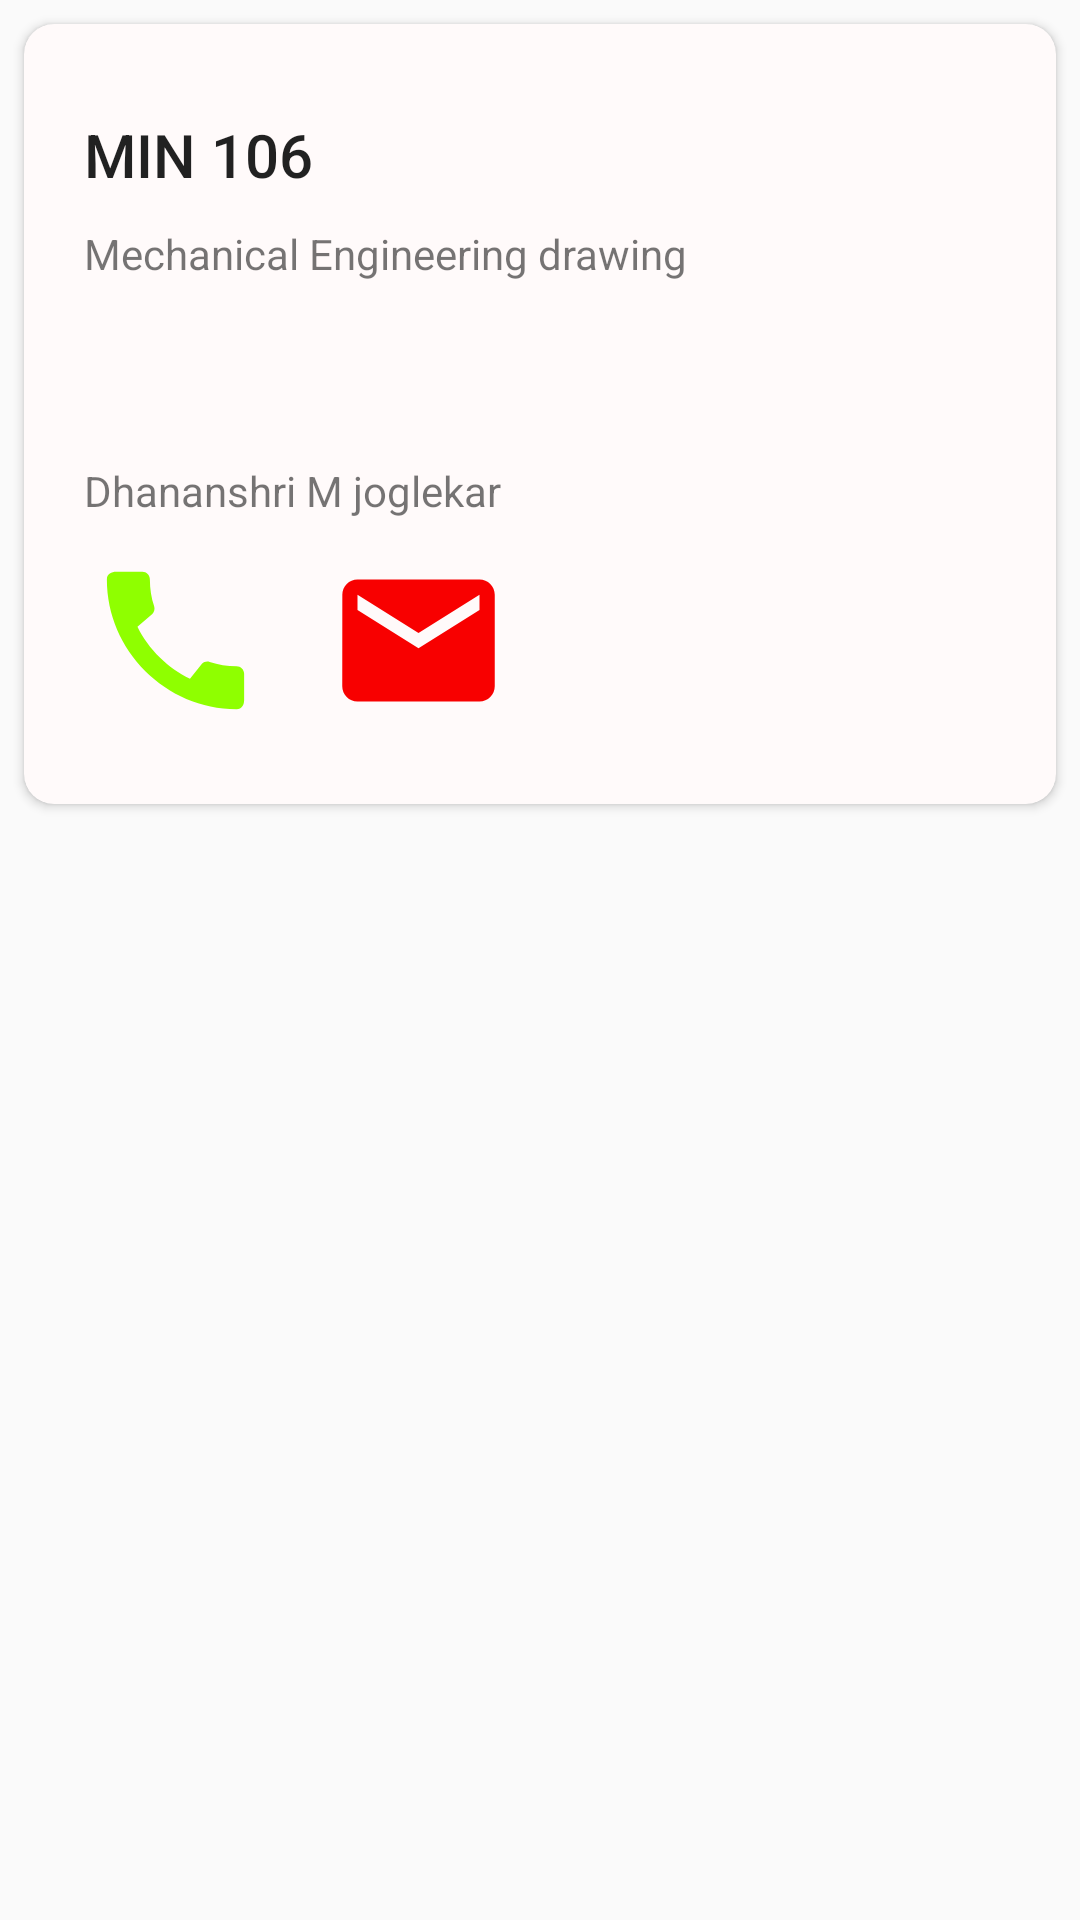

Icons on this 1080×1920 Android screen, each with the point to tap as (x=x, y=y):
call: (x=175, y=640)
local post office: (x=418, y=640)
